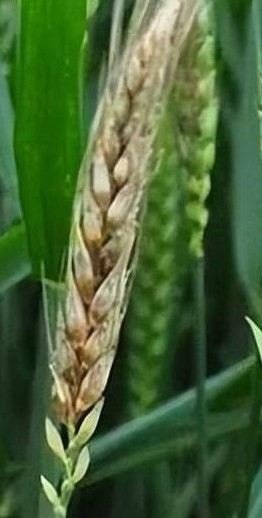Wheat scab: (39, 35, 179, 501)
